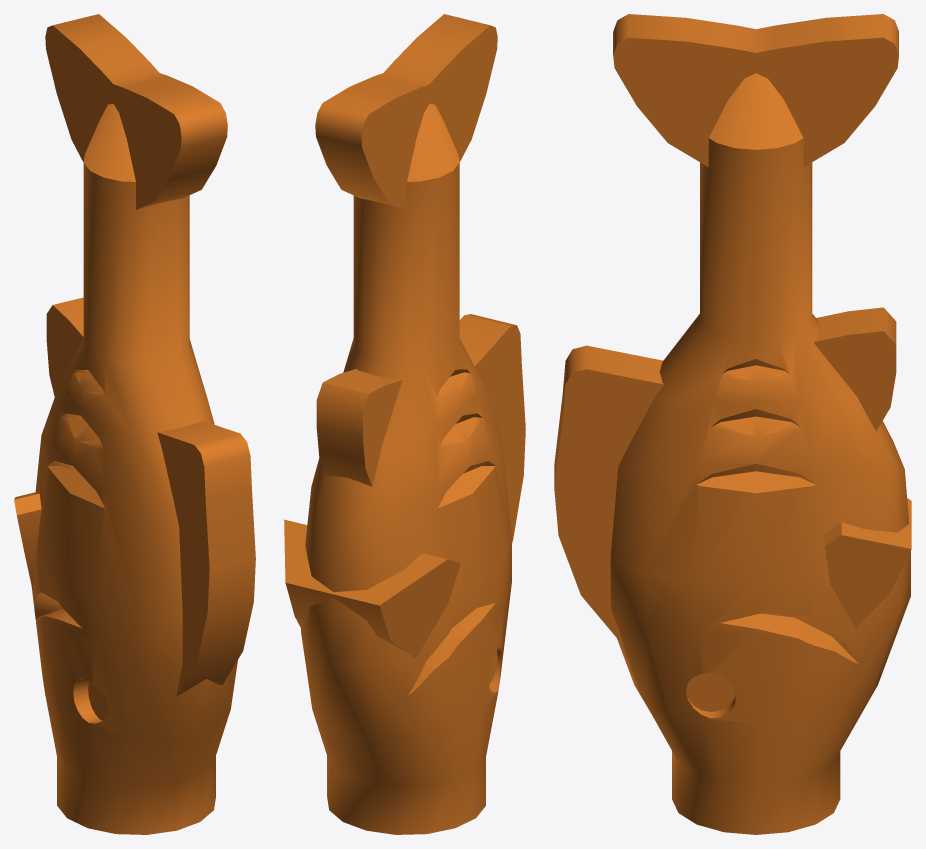
Rendered from fish_yellow.obj.
3 renders of one model, left to right at view 1: azimuth 30°, elevation 25°; view 2: azimuth 150°, elevation 25°; view 3: azimuth 270°, elevation 25°, orthographic. The views are drawn at different scales.
Visible parts, largest first — view 1: Piece000; view 2: Piece000; view 3: Piece000.
Boxes of the visible parts, x1,y1,x2,y2 form: Piece000: [14, 14, 255, 834]; Piece000: [284, 14, 525, 834]; Piece000: [554, 14, 911, 834].
Size of the model in its own units: 15.05 by 60.9 by 25.5.
